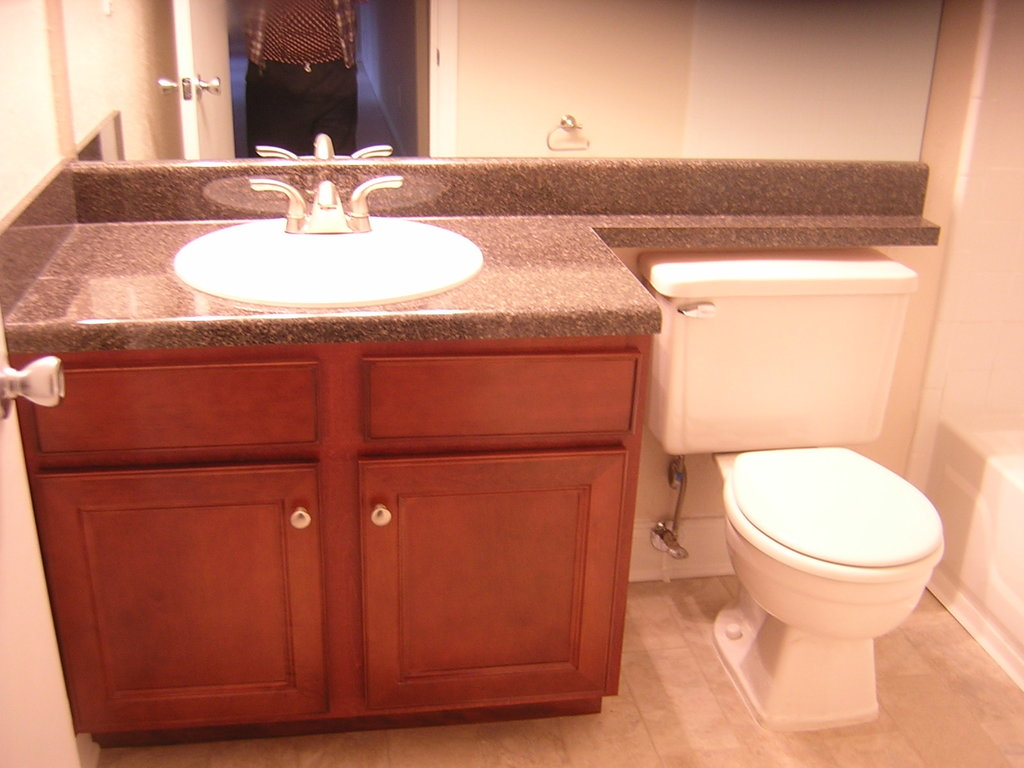cabinet door: (50, 473, 328, 717), (358, 464, 607, 701)
handle: (0, 347, 82, 414), (356, 495, 398, 531), (282, 496, 315, 535)
